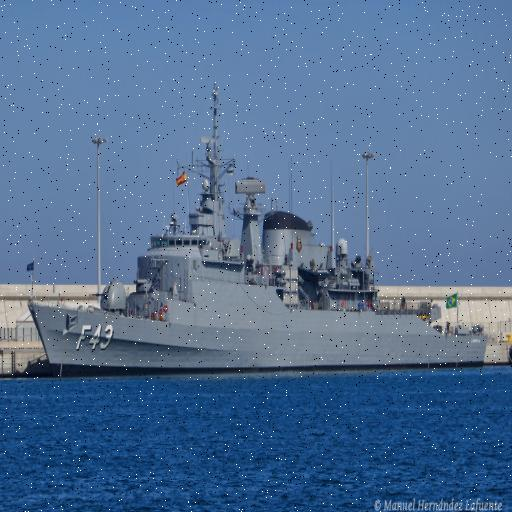Fragata: (25, 77, 491, 383)
